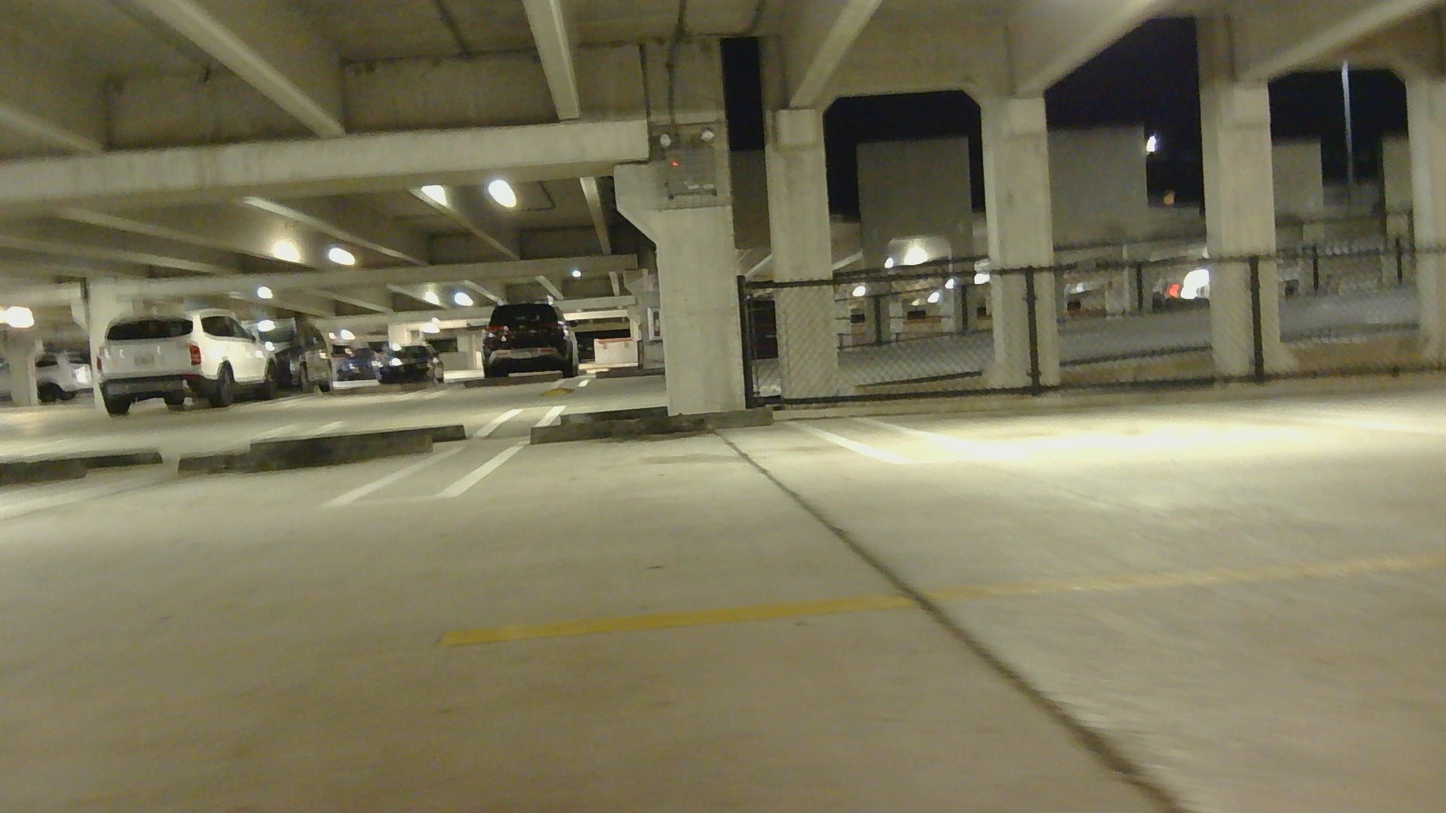empty_spot: (830, 313, 1442, 458), (407, 399, 941, 509), (0, 438, 498, 534), (1182, 314, 1445, 417)
